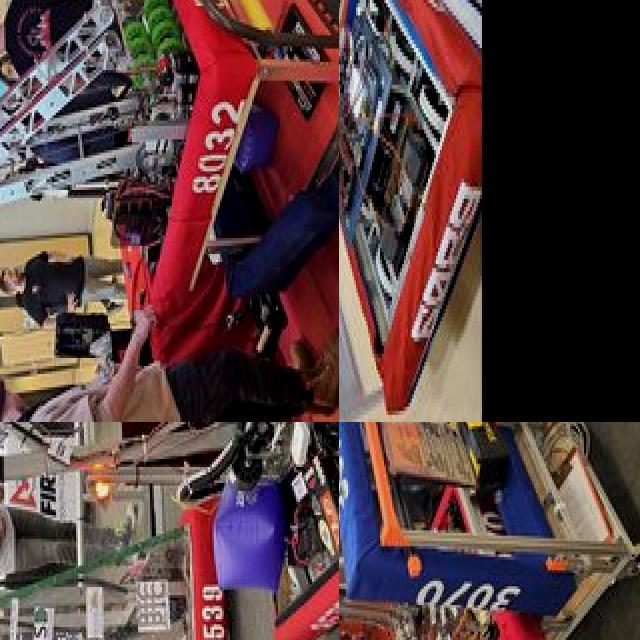FRC-Robots: (0, 0, 273, 343), (339, 0, 488, 422), (0, 422, 339, 605), (339, 430, 536, 640), (0, 546, 255, 640)
